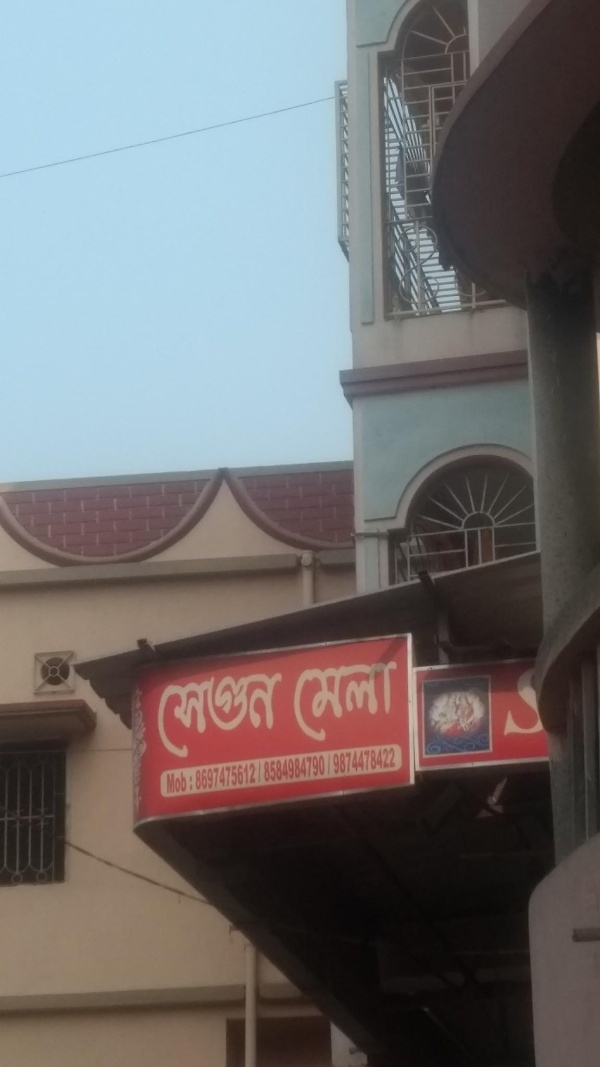text: (161, 665, 176, 761), (177, 665, 192, 761), (193, 665, 208, 761), (209, 665, 224, 761), (225, 665, 240, 761), (241, 665, 256, 761), (257, 665, 272, 761), (305, 659, 320, 746), (321, 659, 336, 746), (337, 659, 352, 746), (353, 659, 368, 746), (369, 659, 384, 746), (385, 659, 400, 746), (291, 659, 304, 746), (513, 665, 528, 735), (529, 665, 544, 735), (273, 665, 283, 761), (501, 665, 512, 735), (209, 761, 224, 793), (225, 761, 240, 793), (241, 761, 256, 793), (273, 753, 288, 784), (289, 753, 304, 784), (305, 753, 320, 784), (337, 747, 352, 776), (353, 747, 368, 776), (369, 747, 384, 776), (195, 761, 208, 793), (177, 771, 193, 796), (385, 747, 397, 776), (321, 753, 332, 784), (263, 753, 272, 784), (166, 771, 176, 796), (257, 761, 262, 793), (332, 747, 336, 776), (401, 659, 402, 746), (545, 665, 546, 735)
